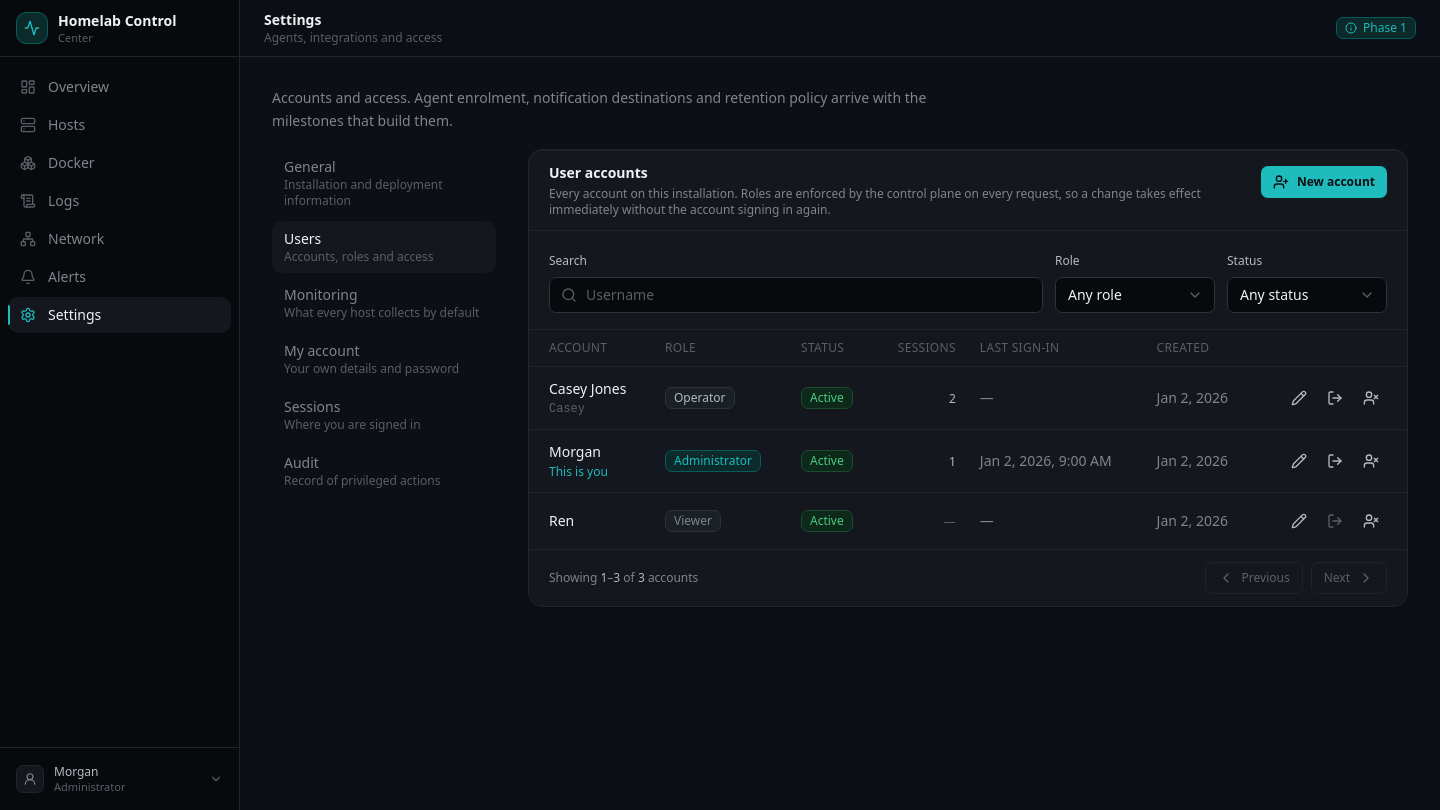
Test: user list › offers to clear the filters when nothing matches
Expected: the table named "user accounts" is shown, [529,328,1407,548]
Type "nobody-by-that-name" into the search field labelled "Search". click: (796, 294)
box: [549,276,1043,312]
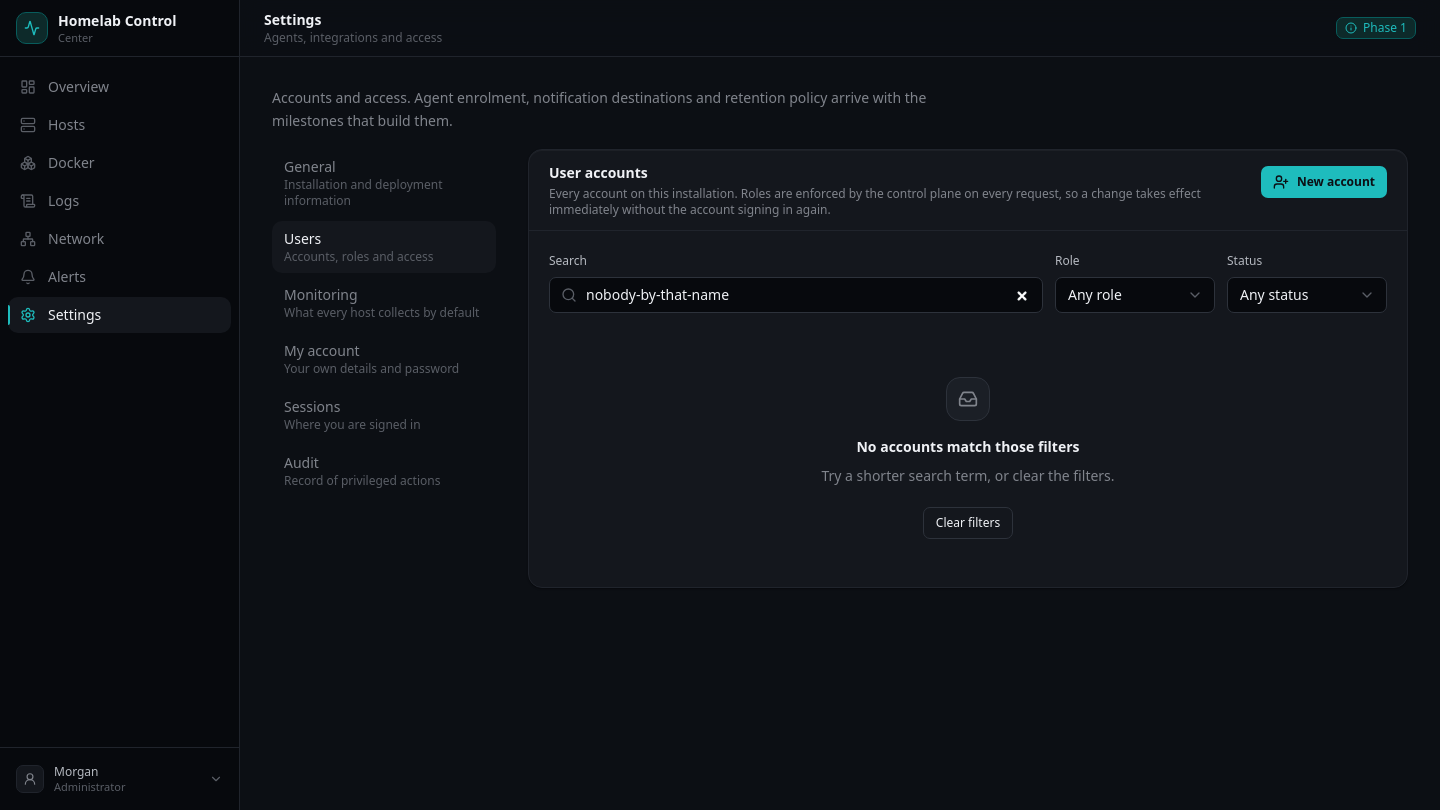
Expected: the heading "No accounts match those filters" is shown, [856,436,1080,456]
Click the button "Clear filters". click: click(968, 523)
box: [923,507,1013,539]
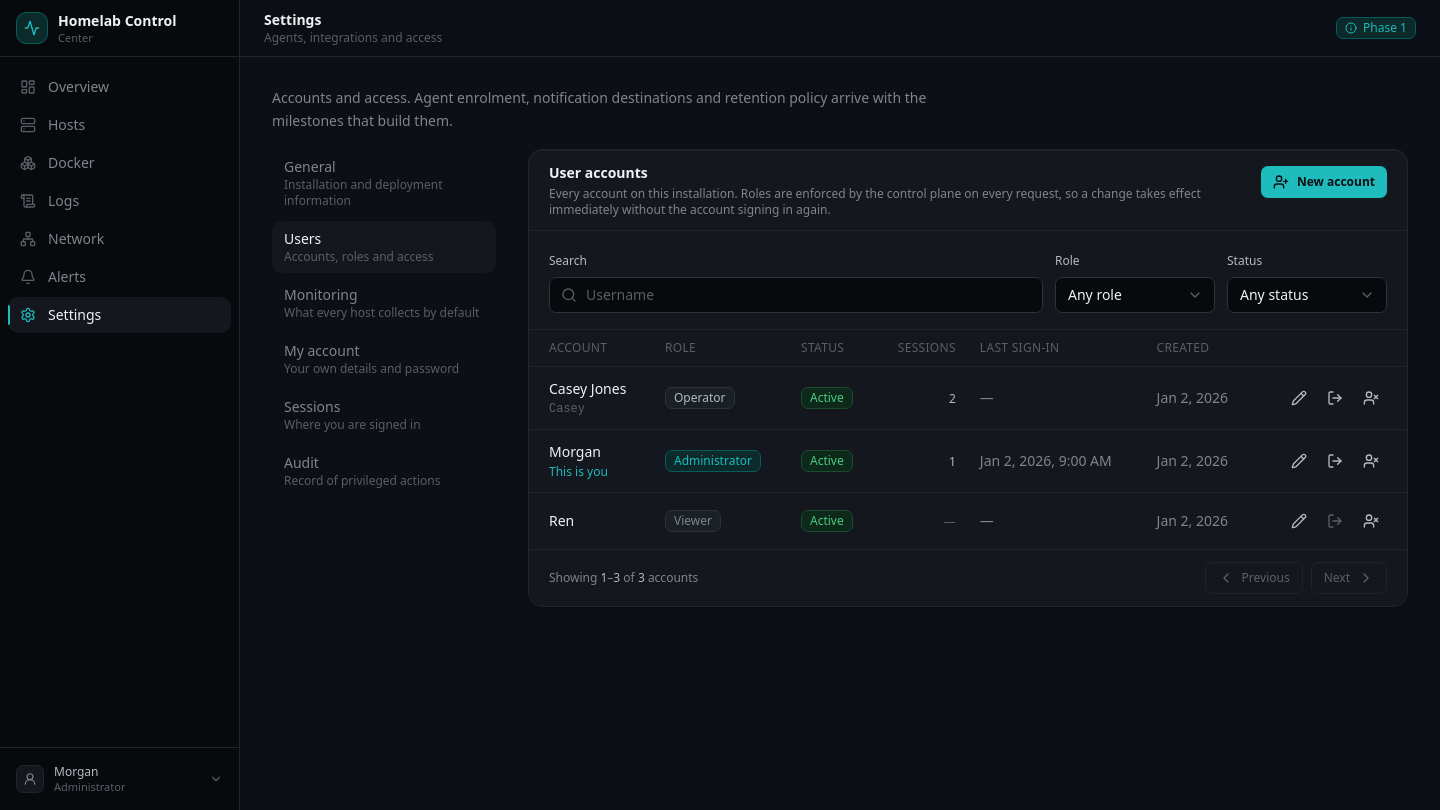
Expected: the text "Ren" is shown, [549,510,574,530]
